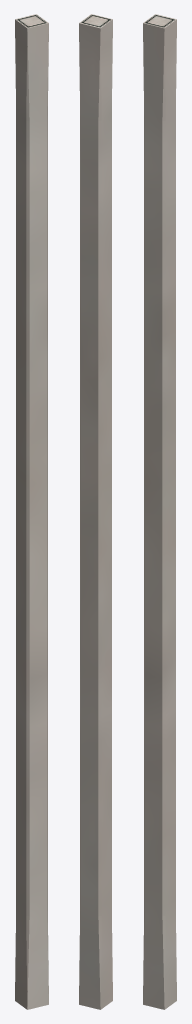
Rendered from Column_02_Art.fbx.
The picture shows the model from 3 angles, left to right: view 1: azimuth 30°, elevation 25°; view 2: azimuth 150°, elevation 25°; view 3: azimuth 330°, elevation 25°; orthographic projection.
Parts seen in each view (by area): view 1: Column_02; view 2: Column_02; view 3: Column_02.
Part boxes in pixels (x1,y1,x2,y2): Column_02: (15,14,48,1009); Column_02: (79,14,112,1009); Column_02: (143,14,176,1009).
Size of the model in its own units: 11.55 by 500 by 11.55.
